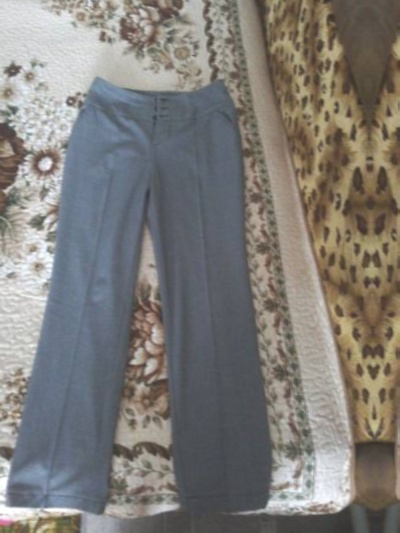Pants: (0, 40, 300, 520)
